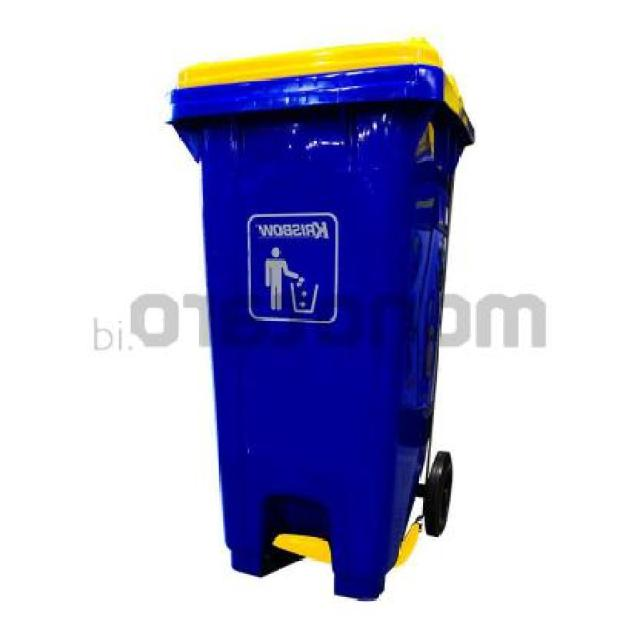garbage container: (142, 32, 495, 611)
